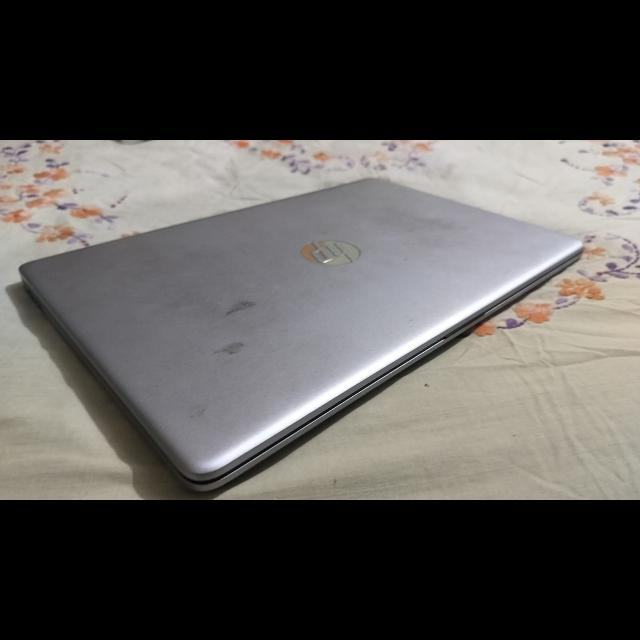laptop: (37, 166, 611, 490)
